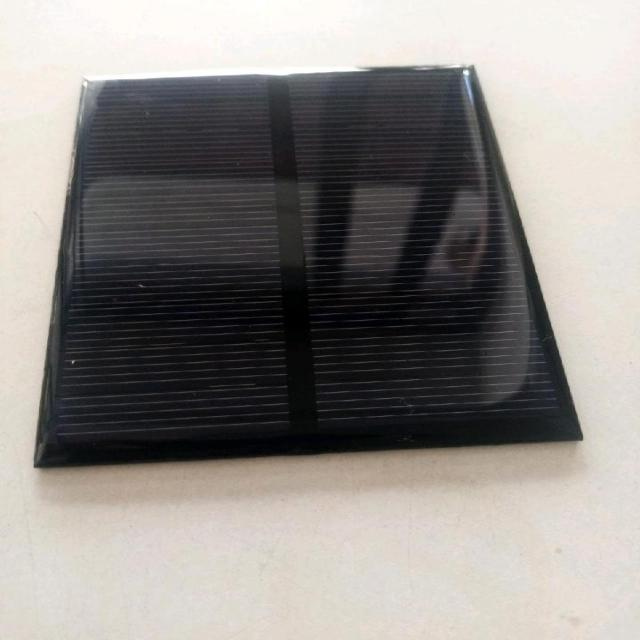no faulty: (31, 80, 502, 438)
